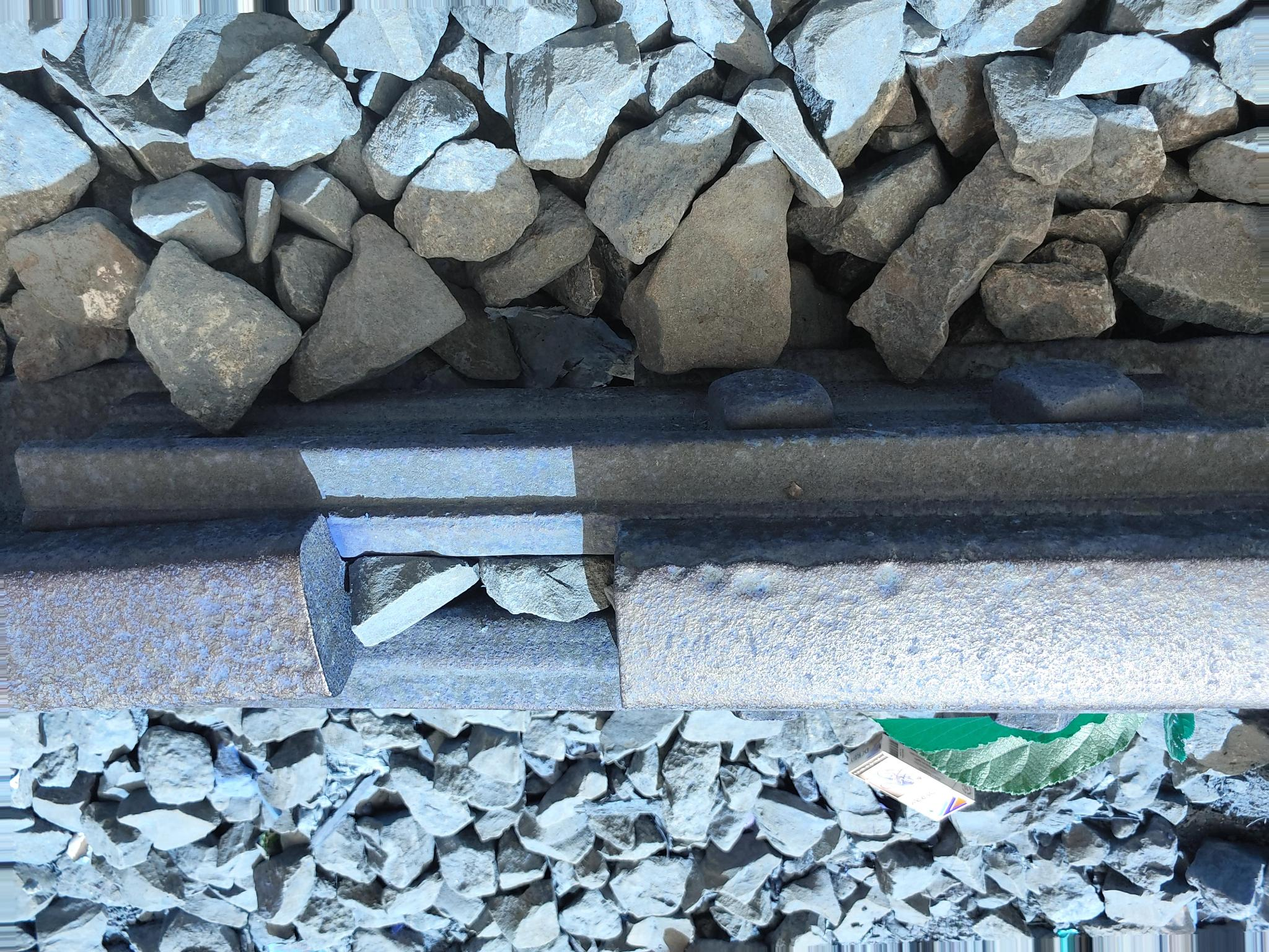person: (276, 471, 660, 754)
